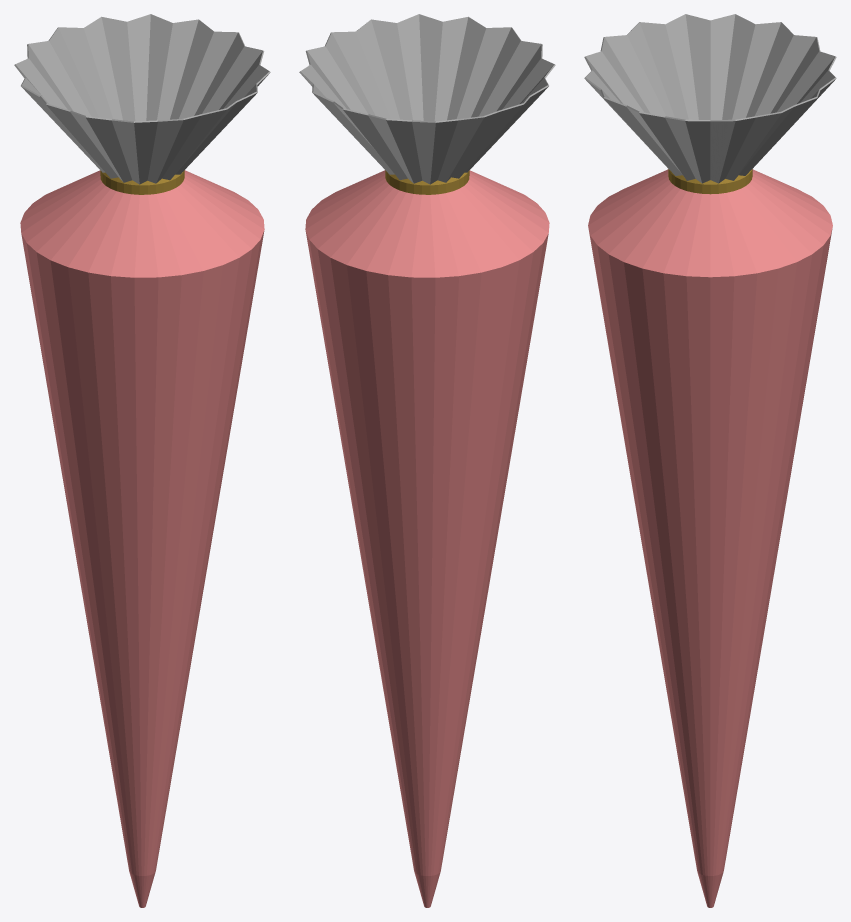
File: piping bag strawberry.fbx
3 renders of one model, left to right at view 1: azimuth 30°, elevation 25°; view 2: azimuth 150°, elevation 25°; view 3: azimuth 270°, elevation 25°, orthographic.
Visible parts, largest first — view 1: Cylinder; view 2: Cylinder; view 3: Cylinder.
Part boxes in pixels (x1,y1,x2,y2): Cylinder: (14, 14, 270, 907); Cylinder: (299, 14, 555, 907); Cylinder: (584, 14, 836, 907).
Size of the model in its own units: 114 by 417 by 114.
